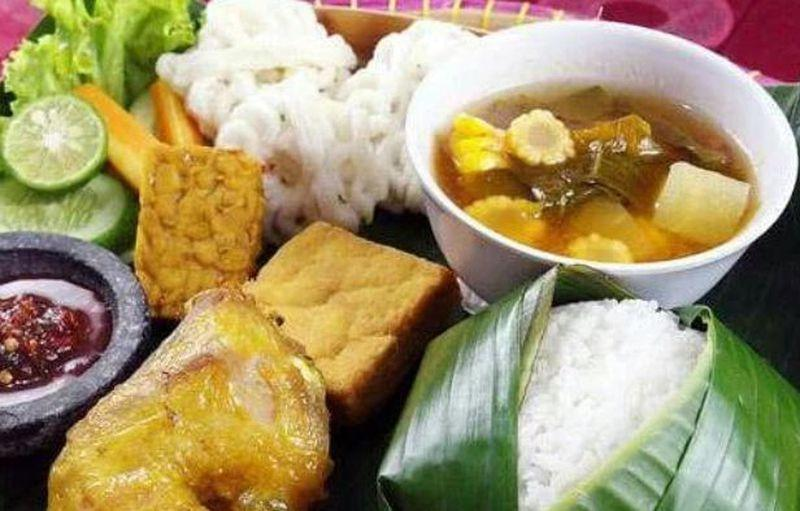buah_sayur_lainnya: (484, 94, 713, 227), (20, 50, 127, 196), (1, 283, 80, 366)
daging: (160, 343, 285, 479)
kacang_legume: (159, 154, 242, 278), (285, 249, 398, 324)
makanan_berpati: (216, 62, 404, 126), (558, 320, 635, 435)
